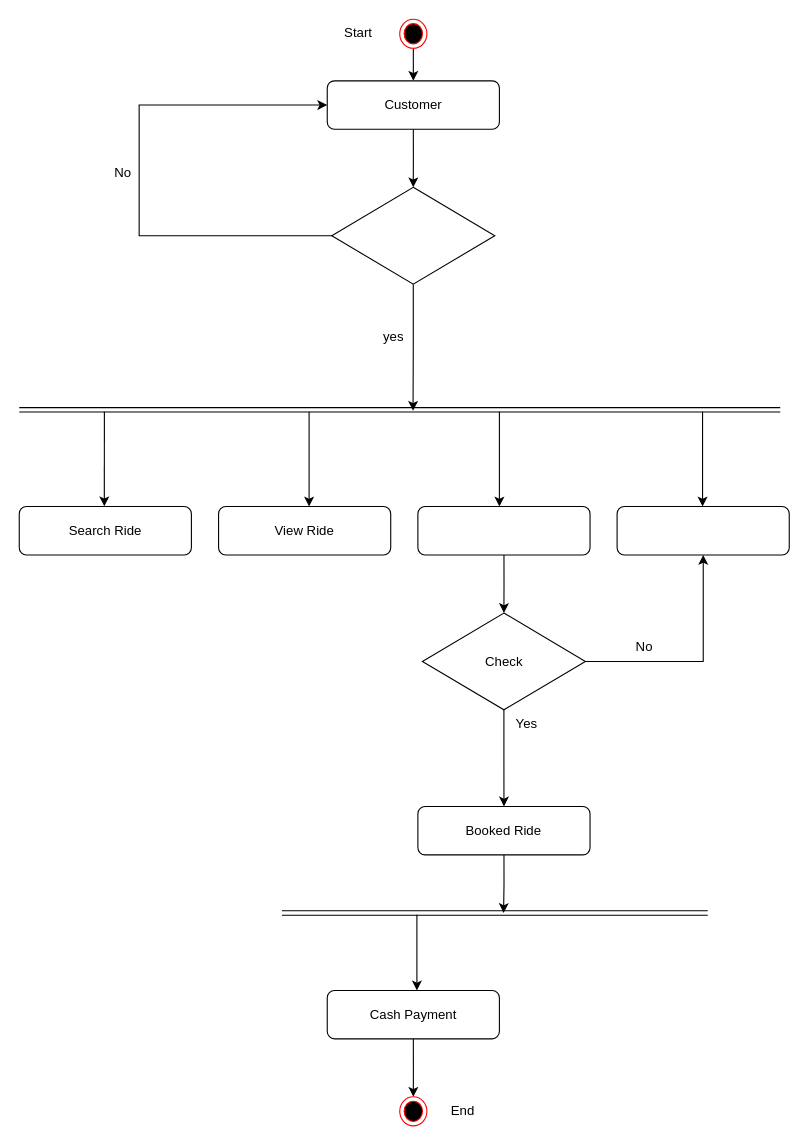
This 809x1145 diagram has some shape labels left out. The centre of each missing label's shape, as x and y in pixels:
"Book Ride" belongs at point (503, 530).
"Cancel Ride" belongs at point (702, 530).
"Validate Customer" belongs at point (413, 235).
